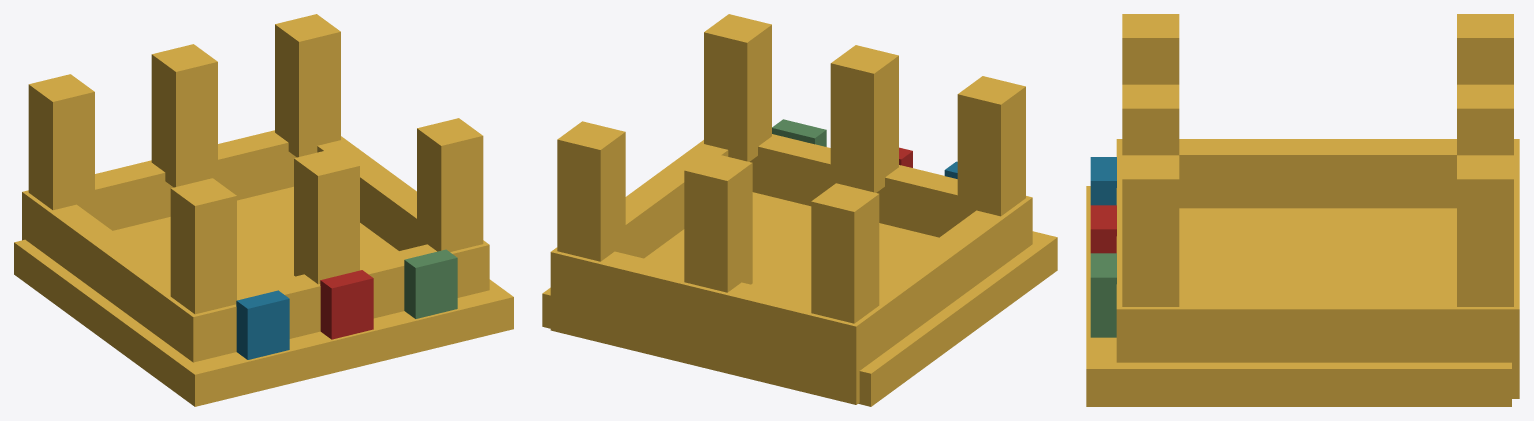
File: royal_crown.glb
3 views of the same model, side by side, from view 1: azimuth 30°, elevation 25°; view 2: azimuth 150°, elevation 25°; view 3: azimuth 270°, elevation 25° (orthographic). The views are drawn at different scales.
Visible parts, largest first — view 1: royal_crown; view 2: royal_crown; view 3: royal_crown.
Part boxes in pixels (x1,y1,x2,y2): royal_crown: (14, 14, 513, 406); royal_crown: (542, 14, 1057, 406); royal_crown: (1086, 14, 1519, 406).
Bounding box in the file's own units: 0.57 × 0.3175 × 0.57.
